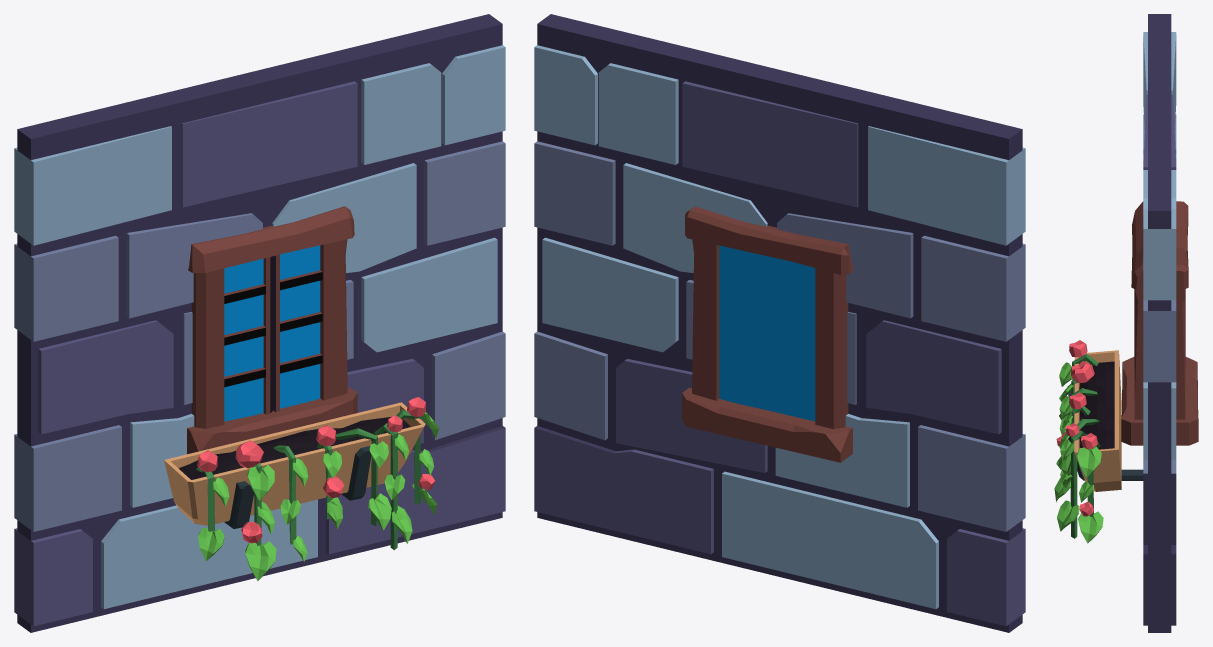
File: Modular Wall 08 MK2 W4.fbx
3 views of the same model, side by side, from view 1: azimuth 30°, elevation 25°; view 2: azimuth 150°, elevation 25°; view 3: azimuth 270°, elevation 25° (orthographic). The views are drawn at different scales.
Parts seen in each view (by area): view 1: Modular Wall 08 MK2 W4; view 2: Modular Wall 08 MK2 W4; view 3: Modular Wall 08 MK2 W4.
Part boxes in pixels (left/top/right/bottom): Modular Wall 08 MK2 W4: left=14, top=14, right=505, bottom=632; Modular Wall 08 MK2 W4: left=534, top=14, right=1025, bottom=632; Modular Wall 08 MK2 W4: left=1054, top=14, right=1198, bottom=632.
Bounding box in the file's own units: 400 × 400 × 124.
